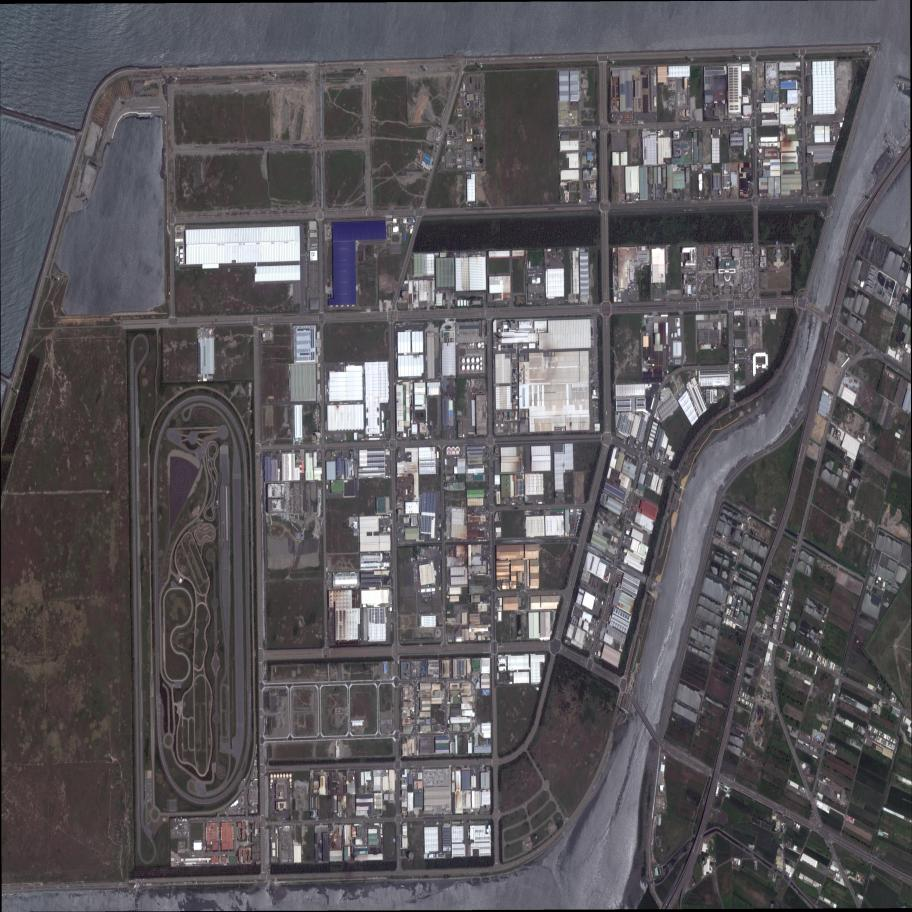storage-tank: (409, 852, 414, 860), (466, 102, 470, 108), (471, 364, 475, 370), (471, 358, 475, 363), (466, 358, 470, 363), (478, 342, 481, 348), (462, 365, 465, 371), (476, 364, 479, 370), (462, 358, 465, 364), (289, 773, 292, 778), (286, 773, 289, 778), (467, 365, 470, 370), (476, 358, 479, 363), (289, 778, 292, 782), (283, 774, 286, 778), (270, 774, 273, 778), (480, 367, 483, 371), (578, 516, 581, 519), (280, 774, 282, 778), (277, 774, 279, 778), (274, 774, 276, 778), (271, 779, 273, 783), (480, 357, 482, 361), (470, 343, 472, 346), (290, 785, 292, 788), (472, 343, 474, 346), (577, 520, 579, 523), (480, 362, 482, 365), (290, 783, 292, 785), (270, 784, 272, 786), (576, 527, 578, 529), (577, 524, 579, 526), (271, 786, 272, 789), (573, 534, 574, 536), (571, 534, 572, 536), (570, 534, 571, 536), (576, 530, 577, 532)
